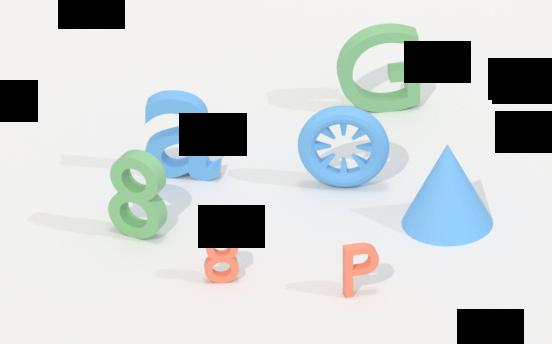8: (107, 148, 170, 243), (203, 227, 241, 285)
G-hoa: (335, 18, 423, 115)
a: (143, 87, 224, 185)
non: (399, 142, 495, 251)
p: (339, 239, 385, 301)
tron: (296, 103, 392, 191)
